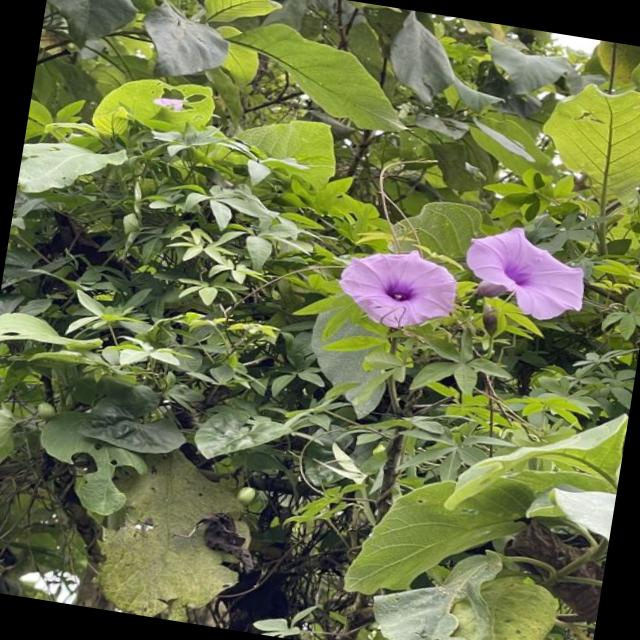ipomoea: (452, 218, 596, 330), (328, 238, 466, 340)
